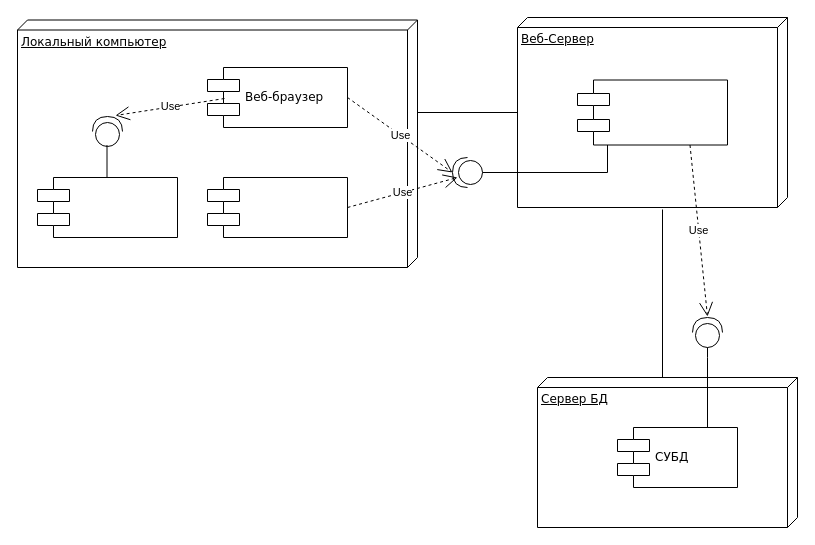
This 815x545 diagram has some shape labels left out. The shapes that lost their labels are listed below. From the top down, each one's centre as x and y in pixels, then its label:
At (x=652, y=112): "Веб-приложение".
At (x=107, y=207): "Локальное приложение".
At (x=277, y=207): "HTTP- клиенты (Postman...)".
